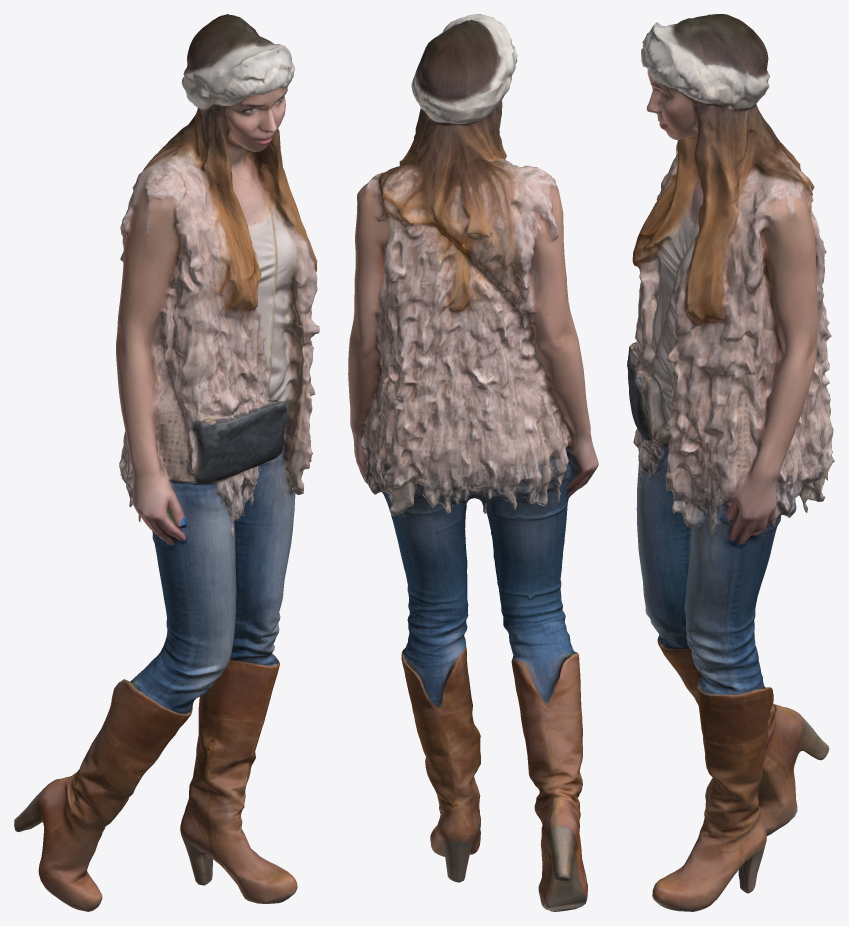
The model's file is Girl in fluffy cardigan jeans and boots_FBX.fbx.
3 views of the same model, side by side, from view 1: azimuth 30°, elevation 25°; view 2: azimuth 150°, elevation 25°; view 3: azimuth 270°, elevation 25° (orthographic). The views are drawn at different scales.
Parts seen in each view (by area): view 1: Scan-13.Shape; view 2: Scan-13.Shape; view 3: Scan-13.Shape.
Part boxes in pixels (x1=…): Scan-13.Shape: x1=14, y1=14, x2=319, y2=911; Scan-13.Shape: x1=348, y1=14, x2=598, y2=911; Scan-13.Shape: x1=627, y1=14, x2=834, y2=911.
Bounding box in the file's own units: 53.98 × 177 × 37.78.
Materials: 1 (1 with a texture image).
